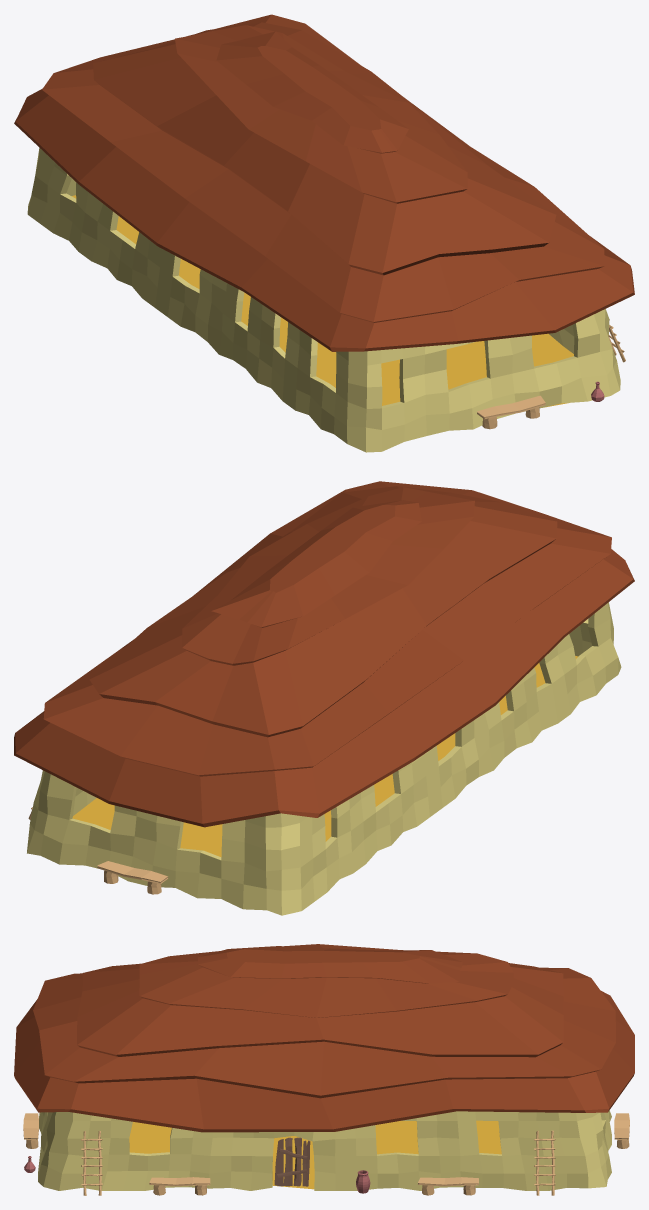
The model's file is casacentral.fbx.
3 views of the same model, one above another, from view 1: azimuth 30°, elevation 25°; view 2: azimuth 150°, elevation 25°; view 3: azimuth 270°, elevation 25° (orthographic). The views are drawn at different scales.
Visible parts, largest first — view 1: Cube.001; view 2: Cube.001; view 3: Cube.001.
Boxes of the visible parts, left/top/right/bottom form: Cube.001: left=14, top=14, right=634, bottom=452; Cube.001: left=14, top=481, right=634, bottom=915; Cube.001: left=14, top=944, right=634, bottom=1195.
Bounding box in the file's own units: 1046 × 653 × 2049.
